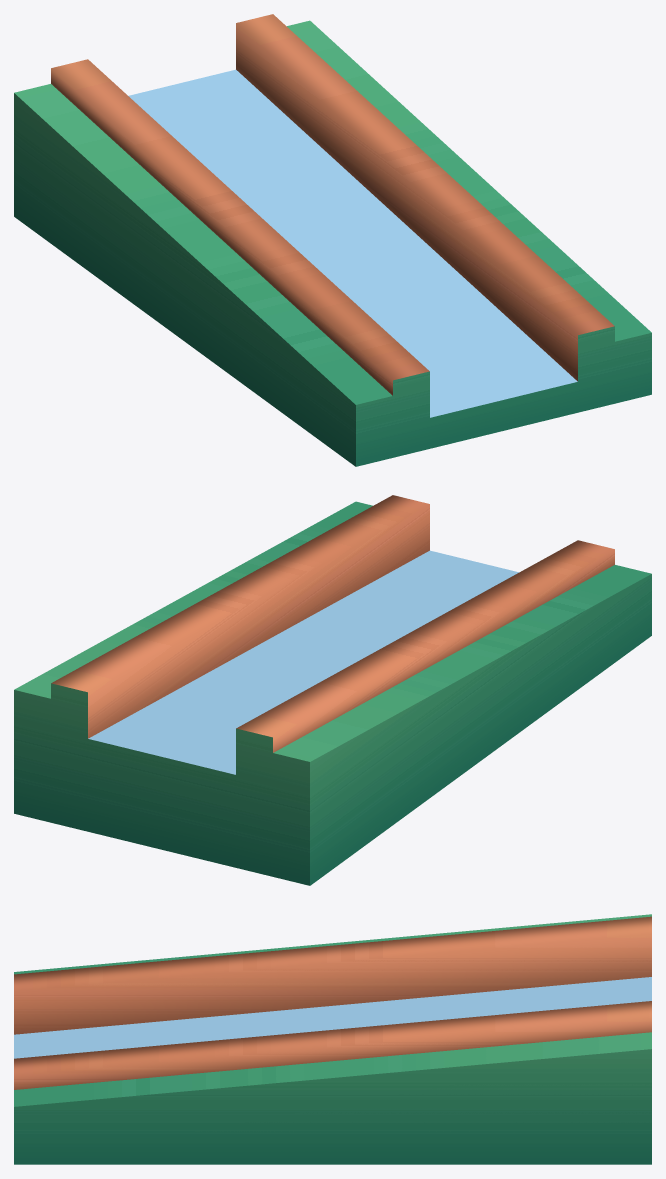
The model's file is tile-river-slope-large.glb.
3 renders of one model, top to bottom at view 1: azimuth 30°, elevation 25°; view 2: azimuth 150°, elevation 25°; view 3: azimuth 270°, elevation 25°, orthographic. The views are drawn at different scales.
Visible parts, largest first — view 1: tile-river-slope-large; view 2: tile-river-slope-large; view 3: tile-river-slope-large.
Part boxes in pixels (x1,y1,x2,y2): tile-river-slope-large: (14,14,651,466); tile-river-slope-large: (14,495,651,885); tile-river-slope-large: (14,914,651,1164).
Size of the model in its own units: 1 by 0.45 by 2.
1 material, 1 textured.
